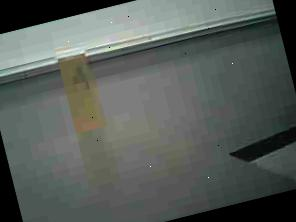Bottle A: (52, 38, 112, 138)
